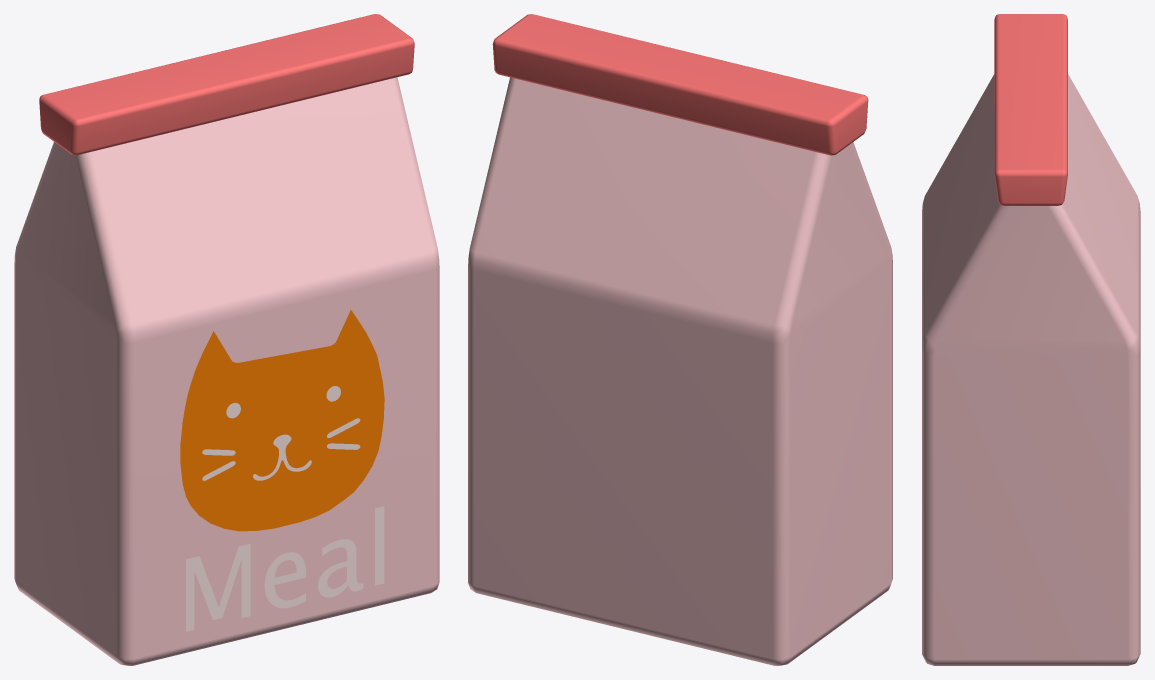
File: Store_11_Cat_Meal_1.glb
3 renders of one model, left to right at view 1: azimuth 30°, elevation 25°; view 2: azimuth 150°, elevation 25°; view 3: azimuth 270°, elevation 25°, orthographic. The views are drawn at different scales.
Parts seen in each view (by area): view 1: Store_11_Cat_Meal_1; view 2: Store_11_Cat_Meal_1; view 3: Store_11_Cat_Meal_1.
Boxes of the visible parts, x1,y1,x2,y2 form: Store_11_Cat_Meal_1: [14, 14, 439, 665]; Store_11_Cat_Meal_1: [468, 14, 892, 665]; Store_11_Cat_Meal_1: [922, 14, 1140, 665].
Bounding box in the file's own units: 1.56 × 2.3 × 0.9046.
Materials: 1 (1 with a texture image).
